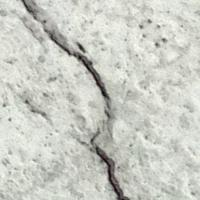crack: (23, 0, 134, 199)
